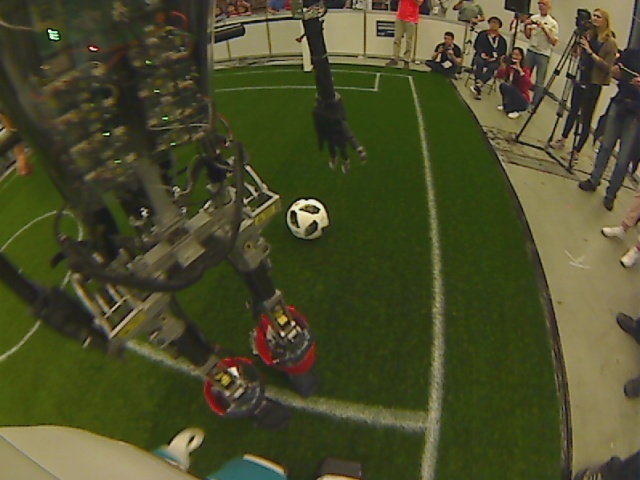ball: (283, 196, 331, 243)
goalpost: (206, 1, 314, 72)
robot: (1, 1, 367, 429)
